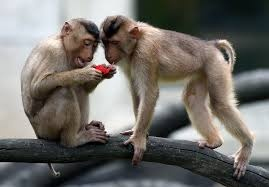monkey: (97, 13, 258, 176), (19, 13, 115, 150)
